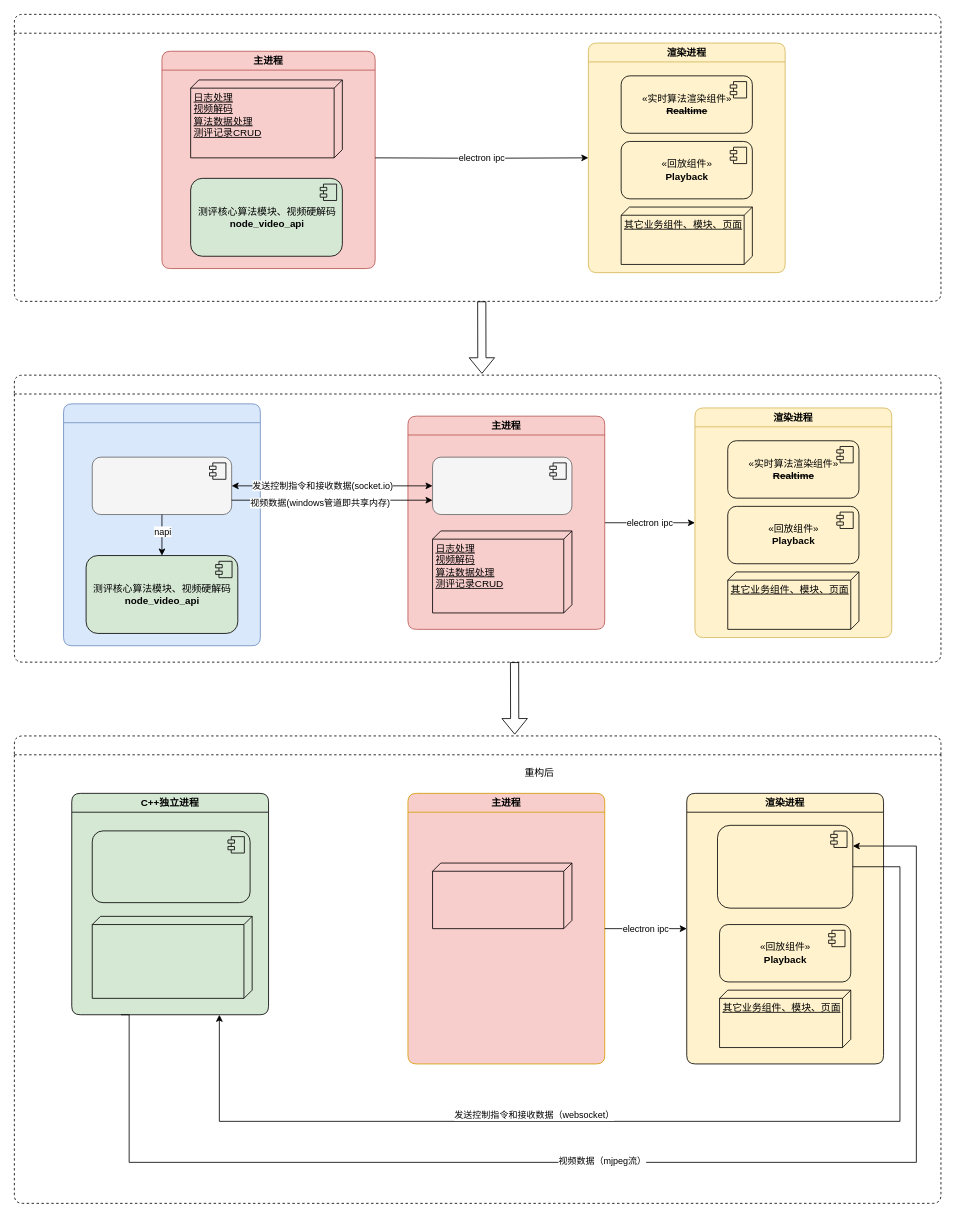
This 955x1218 diagram has some shape labels left out. The shapes that lost their labels are listed below. From the top down, each one's box as (x1, y1, x2, y2) in pixels, then its label:
(14, 14, 941, 301): 美育测评应用程序(1)
(91, 456, 232, 515): 算法控制程序 algo-provider
(432, 456, 572, 515): 算法控制程序 algo-consumer
(63, 403, 260, 646): nodejs子进程
(14, 374, 941, 662): 美育测评应用程序(2)
(91, 830, 250, 903): 测评核心算法模块、视频硬解码 aea_service
(717, 825, 853, 908): «实时算法组件» AlgoClient
(432, 862, 572, 929): 日志处理 视频解码 算法数据处理 测评记录CURD
(91, 916, 252, 998): 其它组件、模块
(14, 735, 941, 1203): 美育测评应用程序(3)
